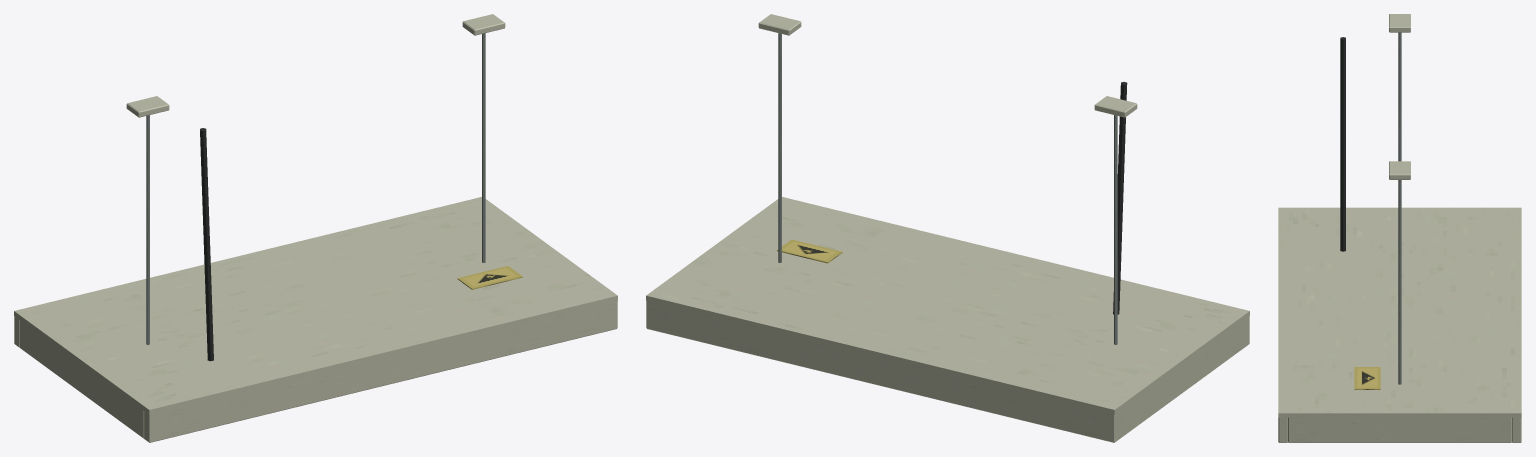
The model's file is fluorescent_hanging.glb.
The picture shows the model from 3 angles, left to right: view 1: azimuth 30°, elevation 25°; view 2: azimuth 150°, elevation 25°; view 3: azimuth 270°, elevation 25°; orthographic projection. The views are drawn at different scales.
Parts seen in each view (by area): view 1: fluorescent_hanging; view 2: fluorescent_hanging; view 3: fluorescent_hanging.
Part boxes in pixels (bbox=[...]): fluorescent_hanging: bbox=[14, 14, 617, 442]; fluorescent_hanging: bbox=[646, 14, 1249, 442]; fluorescent_hanging: bbox=[1278, 14, 1521, 442].
Bounding box in the file's own units: 1.2 × 0.6715 × 0.6.
Materials: 6 (6 with a texture image).
